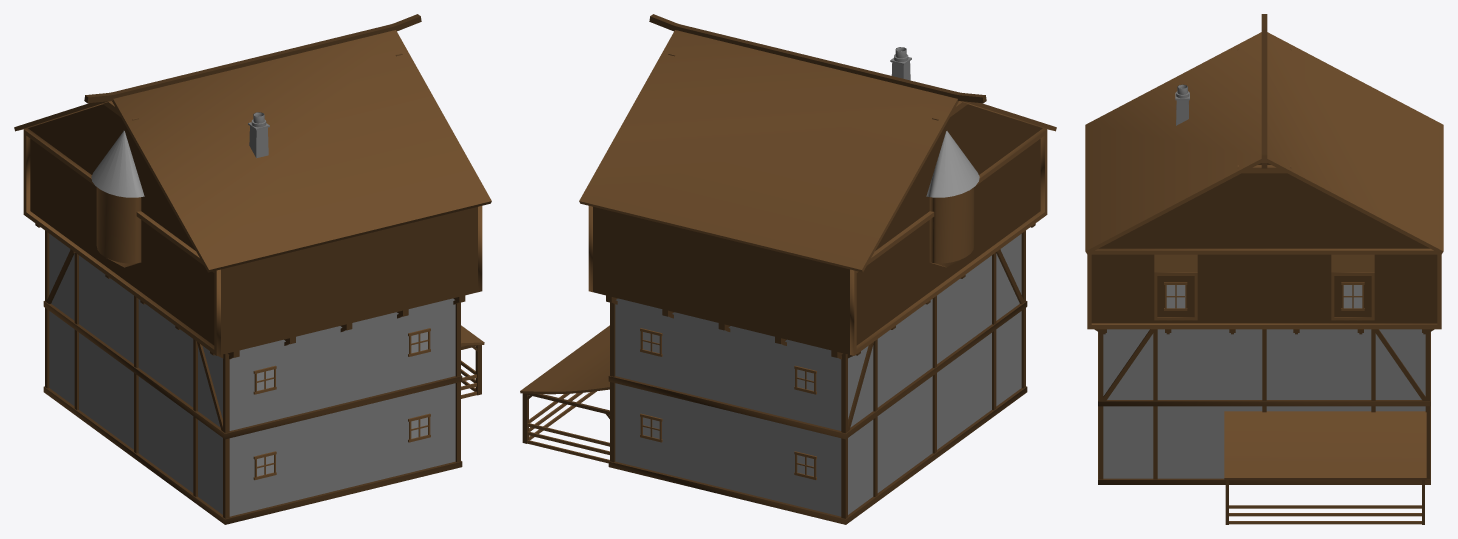
The model's file is Medieval Houses(2).glb.
The picture shows the model from 3 angles, left to right: view 1: azimuth 30°, elevation 25°; view 2: azimuth 150°, elevation 25°; view 3: azimuth 270°, elevation 25°; orthographic projection. The views are drawn at different scales.
Visible parts, largest first — view 1: Root; view 2: Root; view 3: Root.
Boxes of the visible parts, x1,y1,x2,y2 form: Root: (14,14,491,524); Root: (520,14,1056,524); Root: (1085,14,1443,524).
Size of the model in its own units: 12.89 by 12.22 by 11.56.
